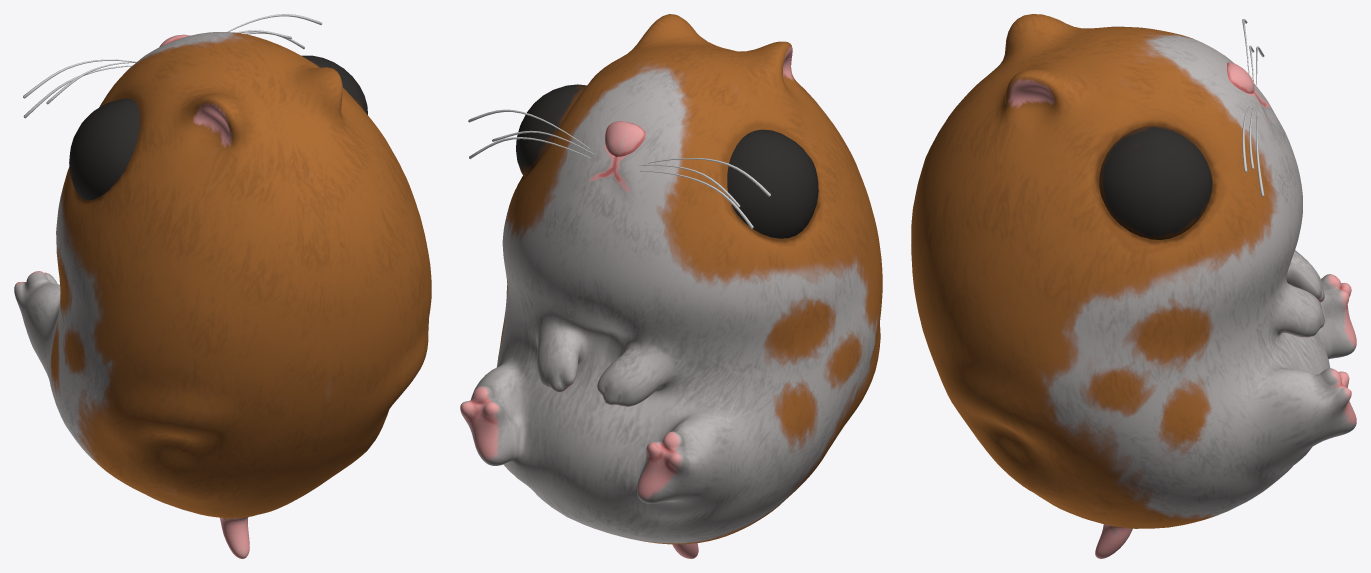
The model's file is happyHamster.gltf.
3 renders of one model, left to right at view 1: azimuth 30°, elevation 25°; view 2: azimuth 150°, elevation 25°; view 3: azimuth 270°, elevation 25°, orthographic. The views are drawn at different scales.
Parts seen in each view (by area): view 1: body.001, wiskers; view 2: body.001, wiskers; view 3: body.001, wiskers.
Part boxes in pixels (box(x1,y1,x2,y2)): body.001: box(14, 32, 431, 558); wiskers: box(23, 14, 322, 118); body.001: box(460, 14, 882, 558); wiskers: box(468, 109, 770, 228); body.001: box(911, 14, 1356, 558); wiskers: box(1242, 19, 1264, 196).
Size of the model in its own units: 1.15 by 1.69 by 1.32.
